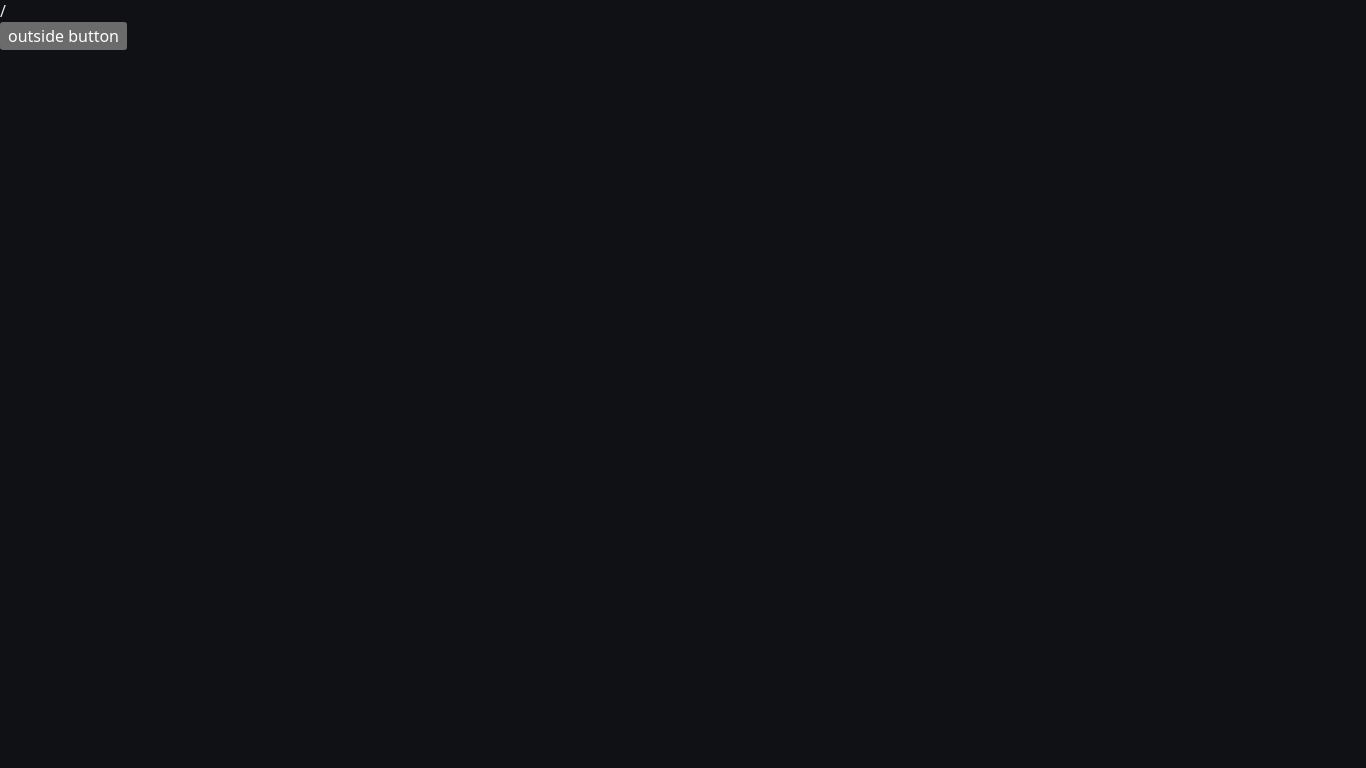
CommandPalette › filters by subsequence and Enter navigates
The width and height of the screenshot is (1366, 768).
Press k
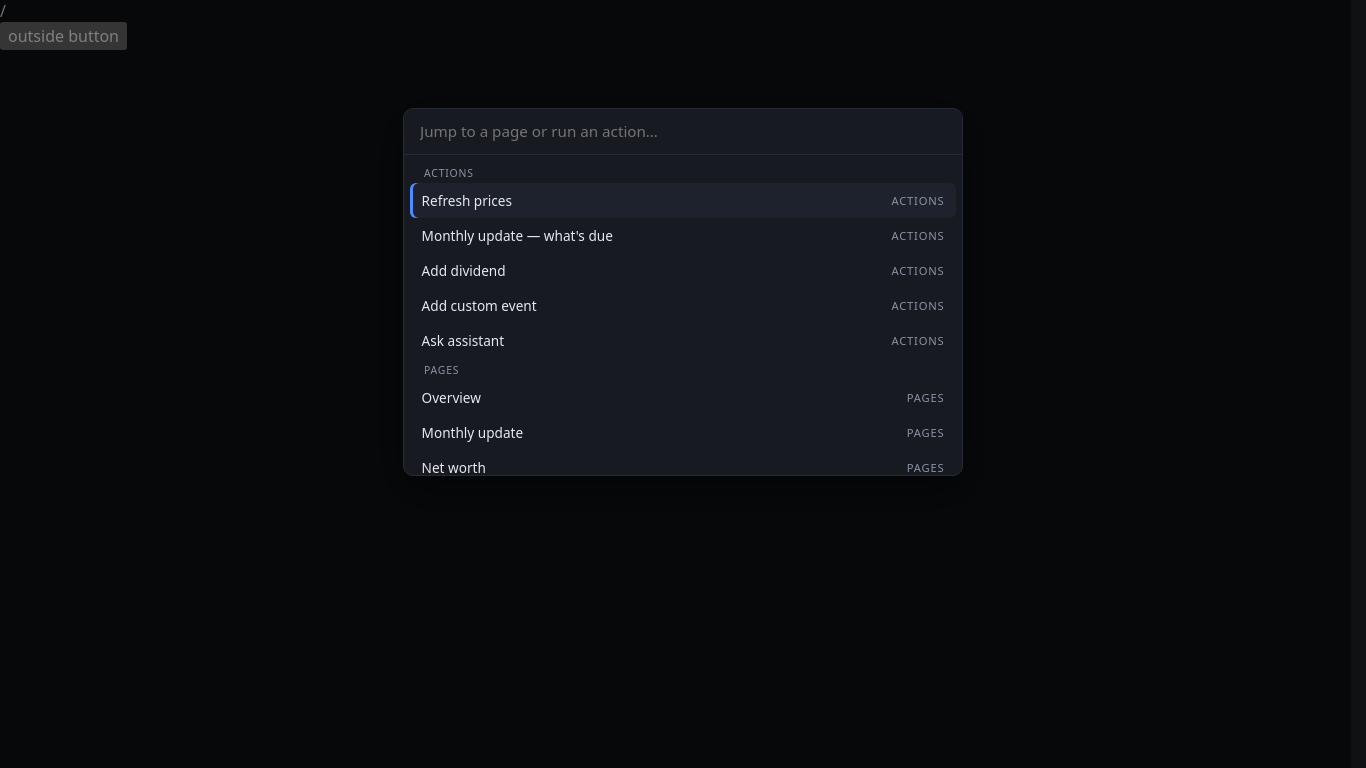
Type "spen" into the dropdown at coordinates (683, 132), box 404,108 -> 962,155
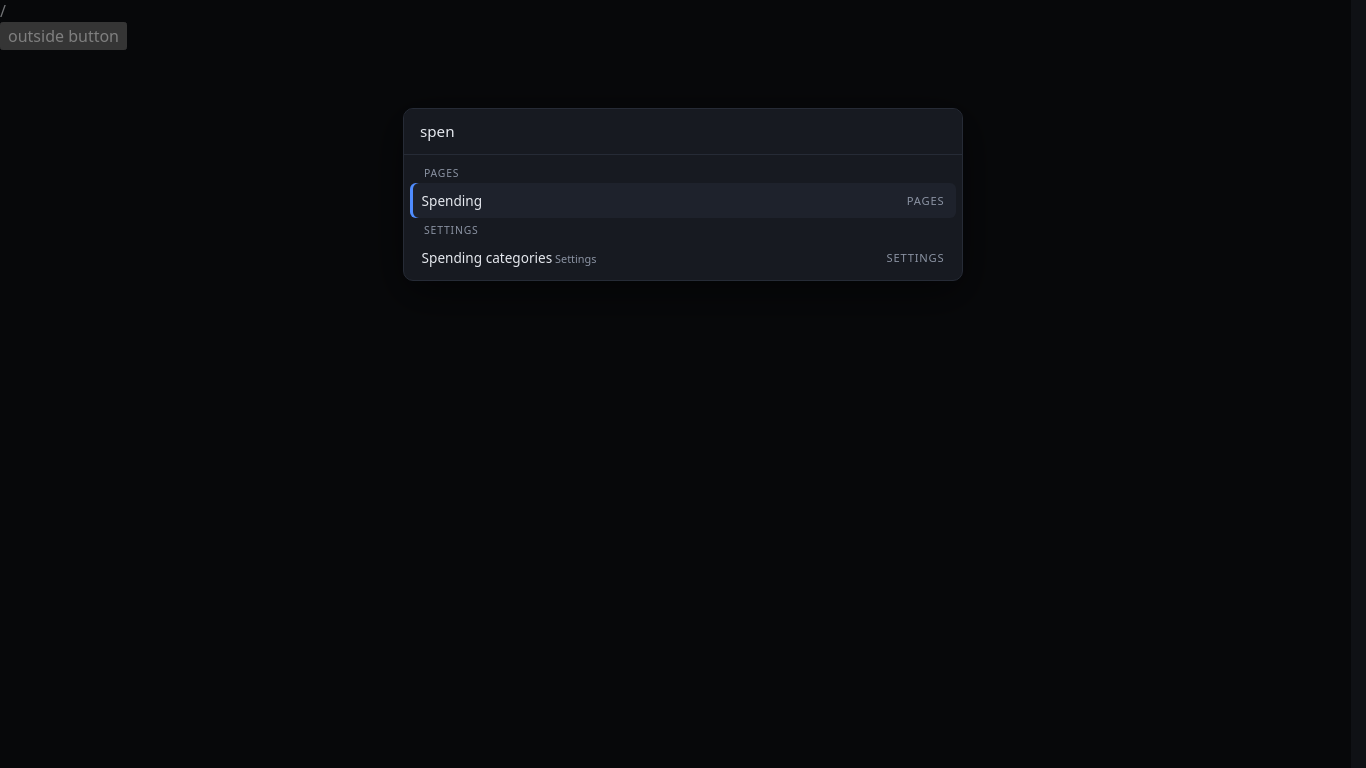
Result: the option "Spending Pages" is shown at 410,183 -> 956,218
Press Enter in the dropdown, box 404,108 -> 962,155
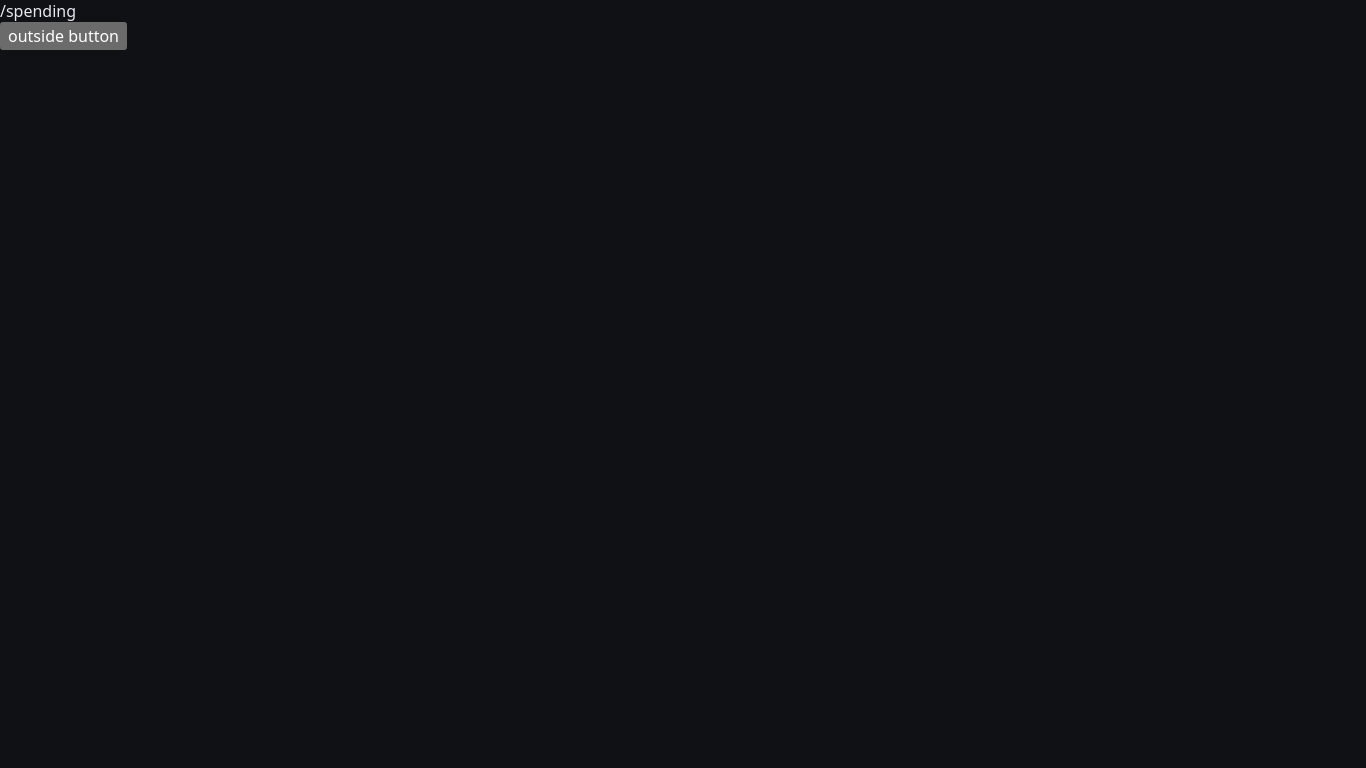
Result: the text with test id "pathname" reads "/spending" at 0,0 -> 76,22
